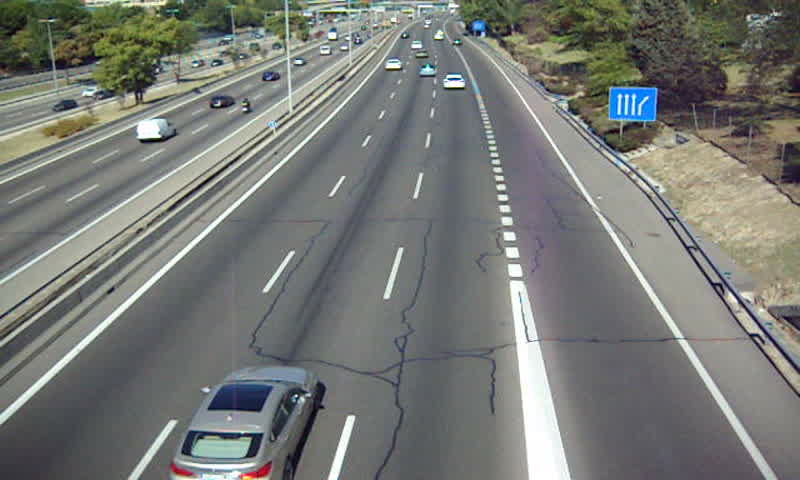car: (168, 365, 318, 480), (442, 73, 467, 90), (418, 62, 436, 78), (384, 58, 404, 70)
